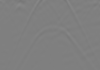hyperbola: (28, 27, 94, 64)
